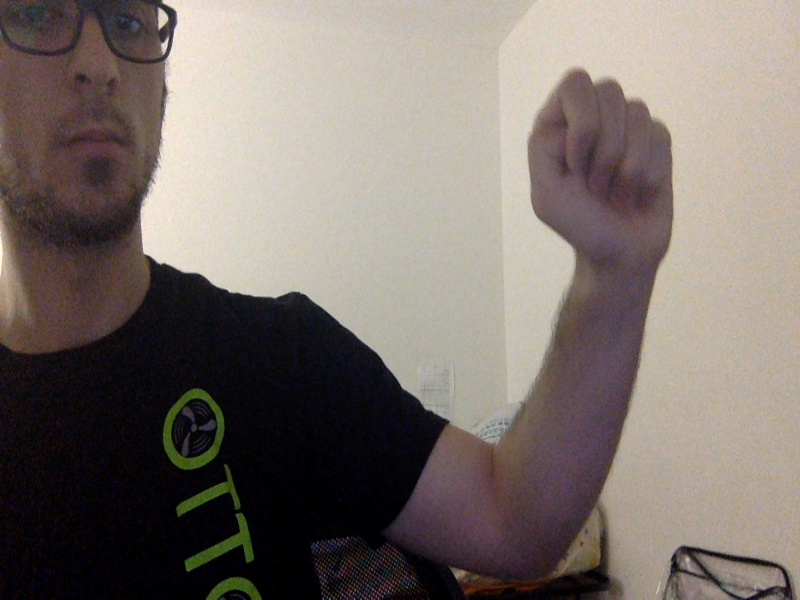0-hand: (525, 70, 676, 264)
